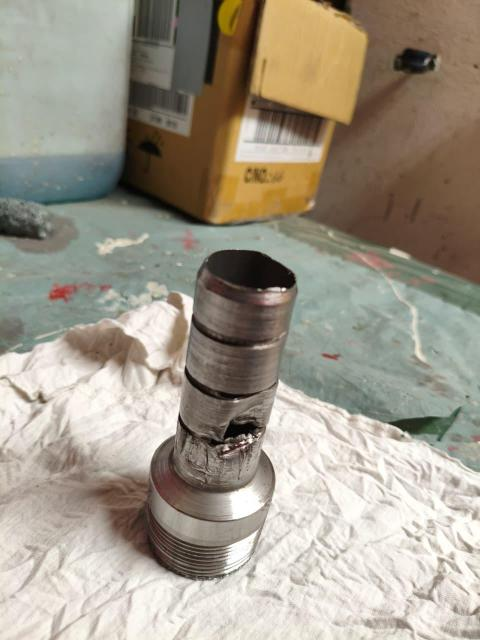Metal: (147, 248, 300, 585)
